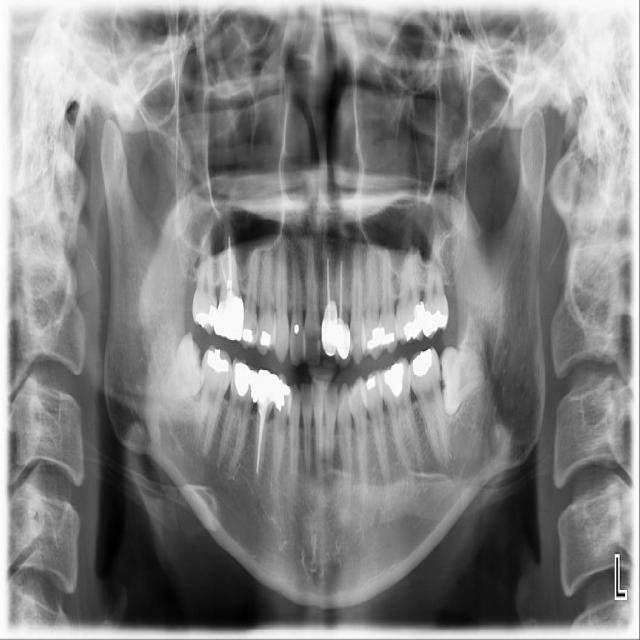Crown: (214, 297, 244, 343), (255, 368, 279, 412), (320, 318, 338, 367), (334, 322, 353, 367)
Filling: (233, 362, 257, 405), (420, 301, 448, 337), (403, 303, 423, 342), (383, 363, 404, 398), (367, 327, 394, 350), (206, 348, 230, 373), (274, 378, 290, 414), (412, 349, 432, 377), (196, 304, 216, 328), (222, 284, 236, 302), (323, 303, 337, 318), (260, 331, 271, 346), (242, 327, 253, 342), (367, 376, 376, 390), (294, 324, 300, 335)
Root Canal Treatment: (256, 408, 269, 476), (339, 257, 344, 323), (229, 236, 234, 284), (326, 258, 331, 305), (220, 256, 228, 284), (590, 568, 598, 580)
impacted tooth: (152, 330, 207, 400), (441, 343, 487, 416)
